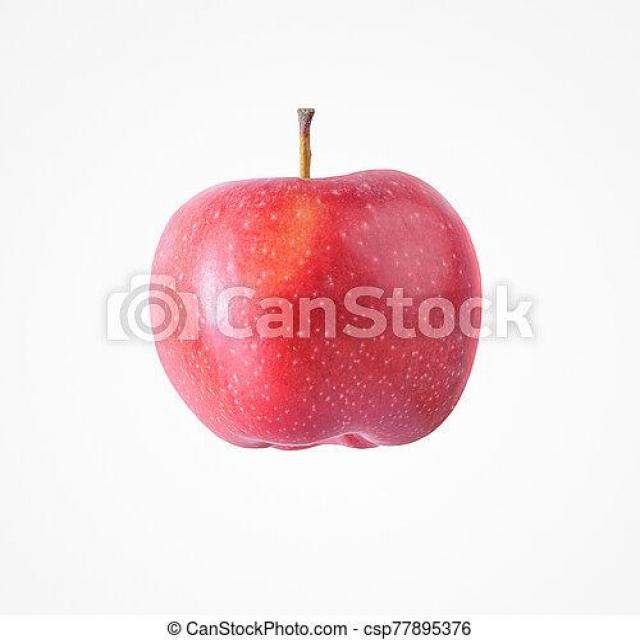Fresh Apple: (104, 155, 492, 457)
